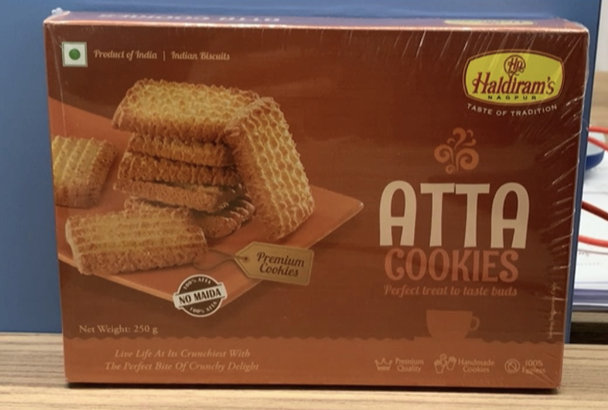cookies_200g-299g: (69, 47, 561, 378)
